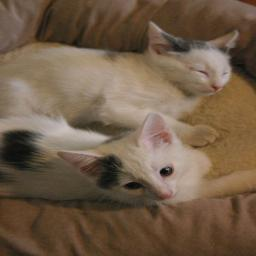catnose: (155, 190, 175, 201), (208, 82, 226, 92)
